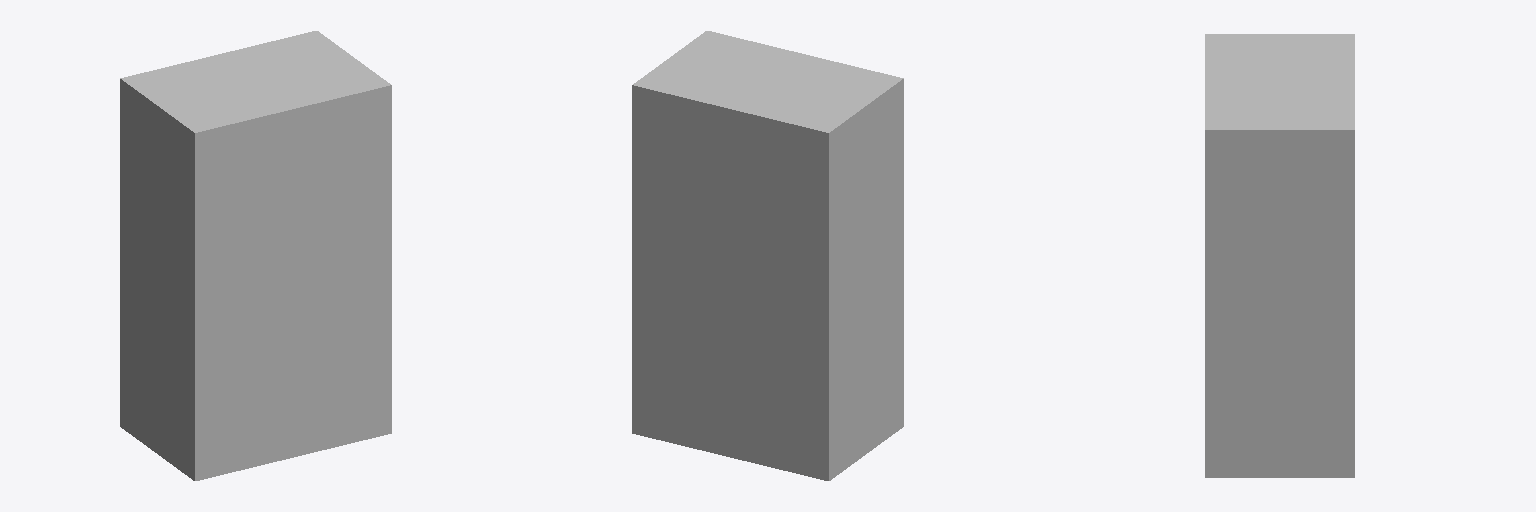
The picture shows the model from 3 angles: view 1: azimuth 30°, elevation 25°; view 2: azimuth 150°, elevation 25°; view 3: azimuth 270°, elevation 25°; orthographic projection.
Parts seen in each view (by area): view 1: Boxs_008; view 2: Boxs_008; view 3: Boxs_008.
Part boxes in pixels (x1,y1,x2,y2): Boxs_008: (120,31,391,480); Boxs_008: (632,31,903,480); Boxs_008: (1205,34,1354,477).
Bounding box in the file's own units: 148 × 250 × 97.45.